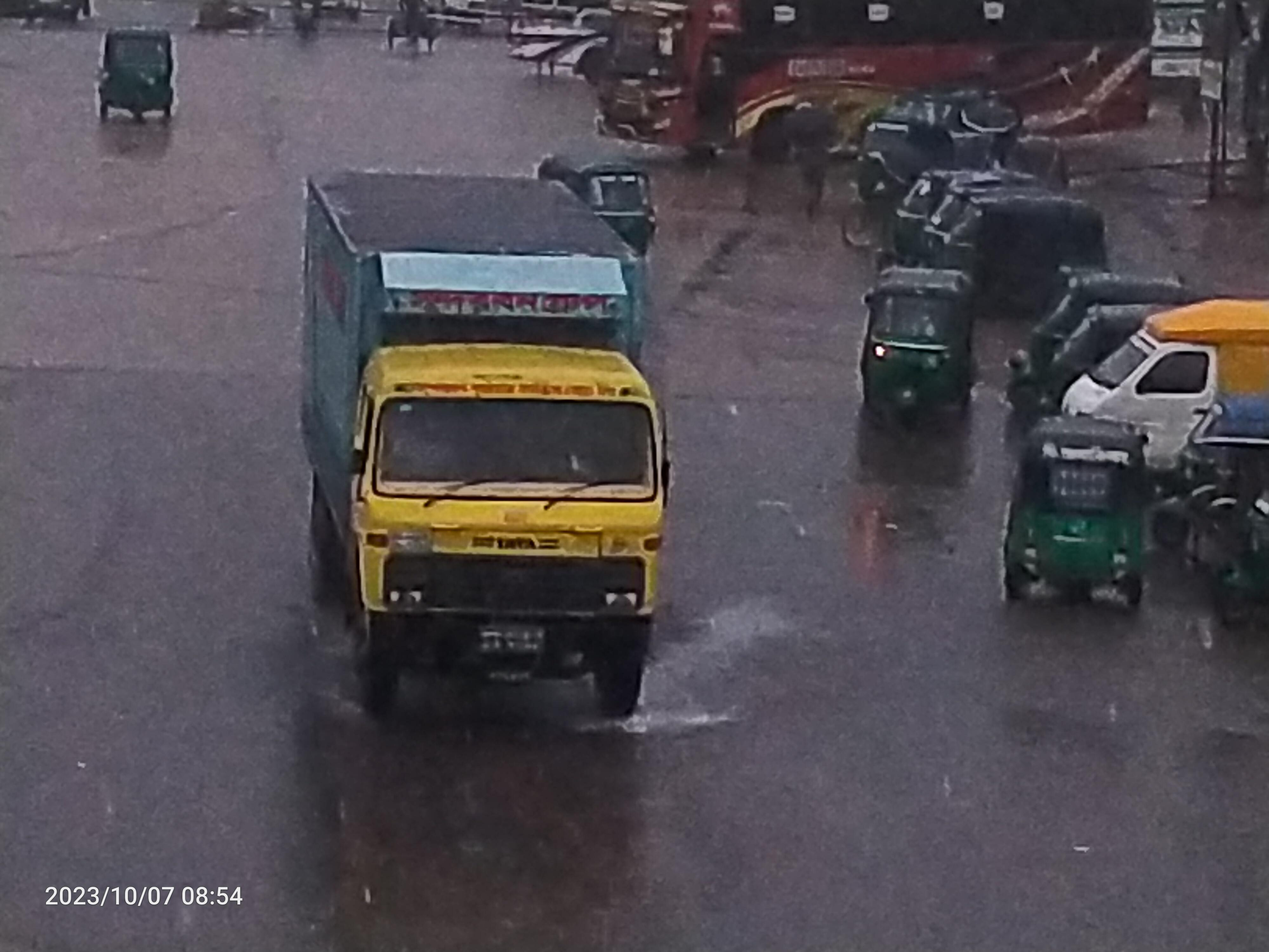Bus: (591, 0, 1172, 180)
Car: (1055, 288, 1269, 452)
Truck: (264, 136, 730, 763)
